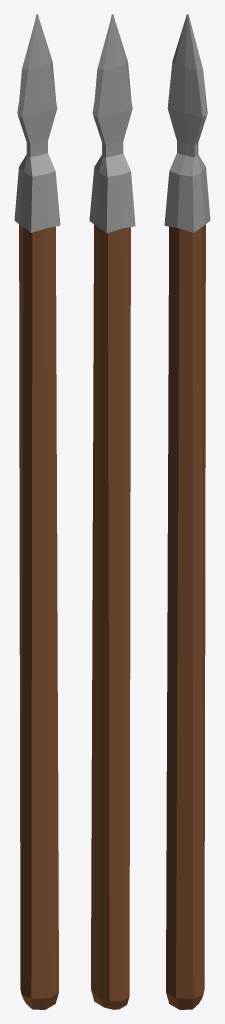
Rendered from spear.fbx.
3 renders of one model, left to right at view 1: azimuth 30°, elevation 25°; view 2: azimuth 210°, elevation 25°; view 3: azimuth 330°, elevation 25°, orthographic.
Parts seen in each view (by area): view 1: Cube; view 2: Cube; view 3: Cube.
Part boxes in pixels (left/top/right/bottom): Cube: left=14, top=14, right=60, bottom=1009; Cube: left=89, top=14, right=135, bottom=1009; Cube: left=164, top=14, right=210, bottom=1009.
Size of the model in its own units: 1.9 by 46.64 by 1.86.
